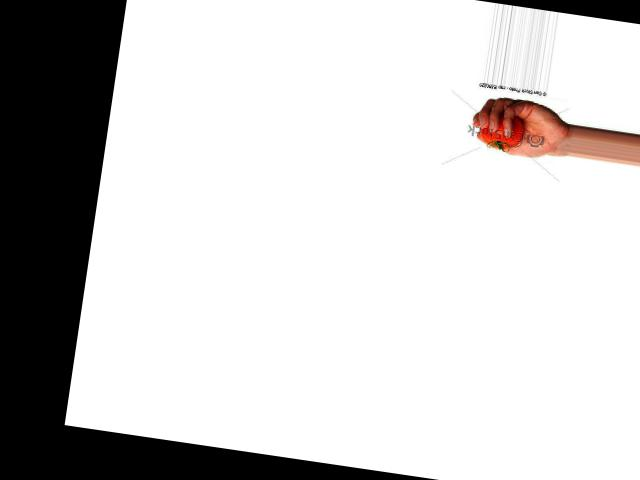tomato: (477, 108, 524, 150)
